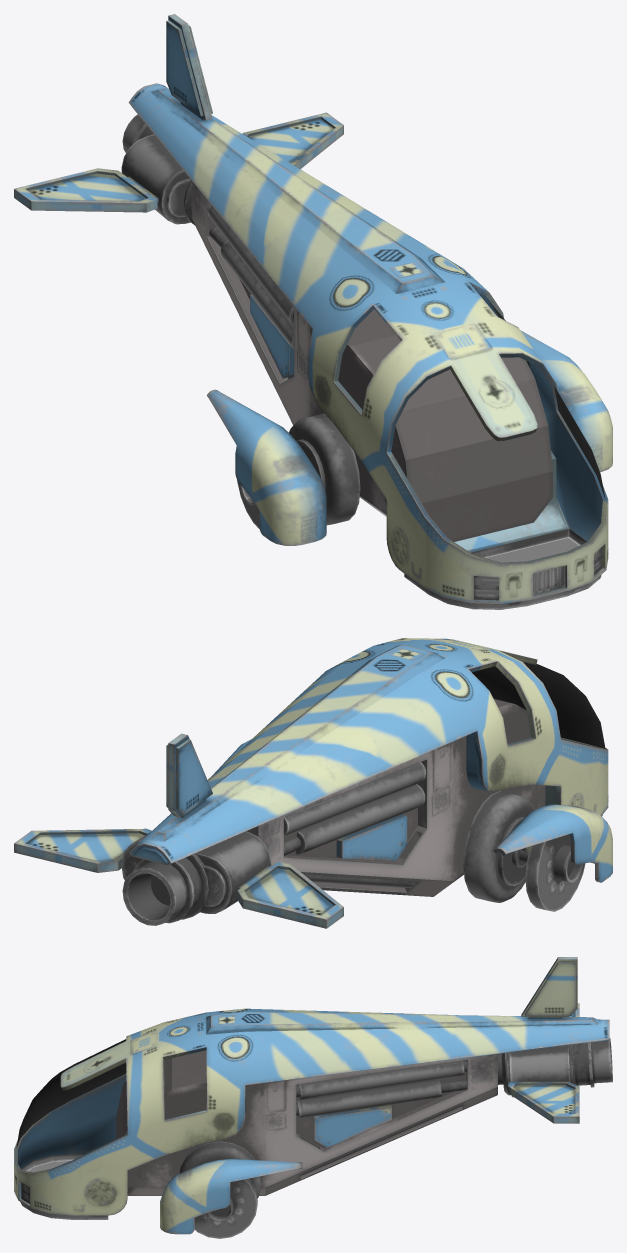
Rendered from Spaceship.fbx.
3 renders of one model, top to bottom at view 1: azimuth 30°, elevation 25°; view 2: azimuth 150°, elevation 25°; view 3: azimuth 270°, elevation 25°, orthographic. The views are drawn at different scales.
Visible parts, largest first — view 1: Spaceship, Front_Window; view 2: Spaceship, Front_Window; view 3: Spaceship, Front_Window.
Boxes of the visible parts, x1,y1,x2,y2 form: Spaceship: (14, 14, 612, 609); Front_Window: (554, 386, 605, 499); Spaceship: (14, 638, 612, 928); Front_Window: (472, 662, 605, 749); Spaceship: (14, 957, 612, 1238); Front_Window: (16, 1039, 126, 1147).
Bounding box in the file's own units: 153 × 134 × 314.
